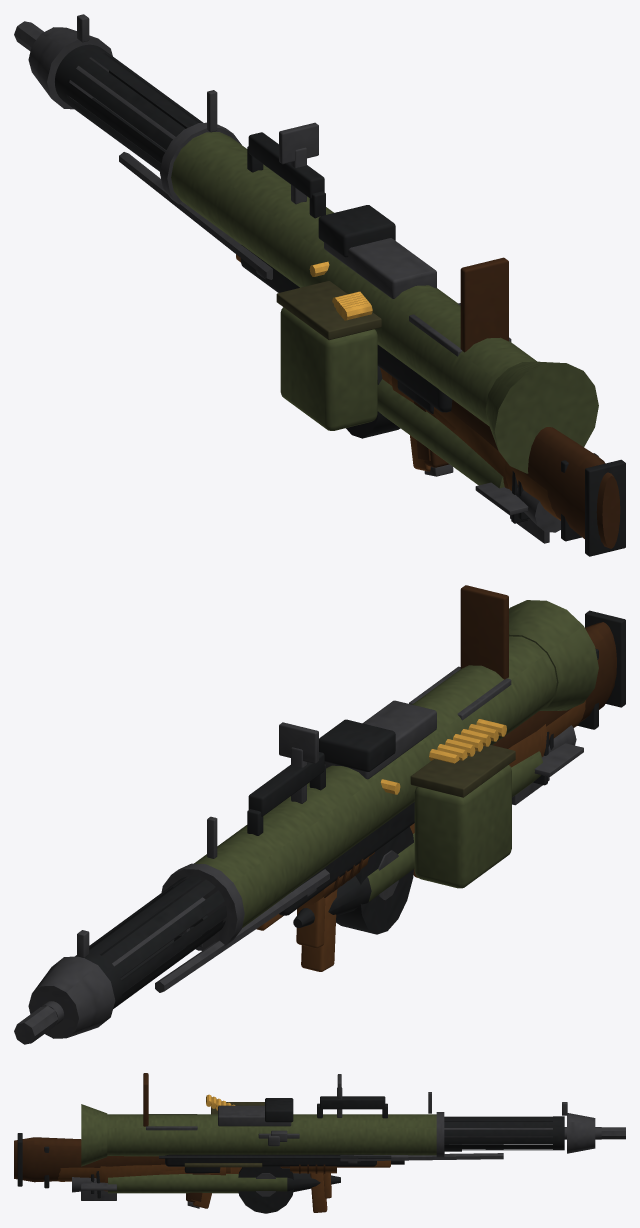
Rendered from wapens.glb.
The picture shows the model from 3 angles, top to bottom: view 1: azimuth 30°, elevation 25°; view 2: azimuth 150°, elevation 25°; view 3: azimuth 270°, elevation 25°; orthographic projection. The views are drawn at different scales.
Visible parts, largest first — view 1: Bazooka_Olijf, MG42_Parkerized, MG42_Staal, MG42_Olijf, MG42_HoutDonker, Raket_Olijf, Bazooka_Staal, Bazooka_HoutDonker, MG42_Riem, Raket_Staal, Trench_Hout, Thompson_Parkerized (+2 smaller); view 2: Bazooka_Olijf, MG42_Parkerized, MG42_Staal, MG42_Olijf, Bazooka_Staal, Bazooka_HoutDonker, Thompson_Parkerized, MG42_Riem, MG42_HoutDonker, Thompson_Hout, Raket_Olijf, MG42_Messing (+4 smaller); view 3: Bazooka_Olijf, MG42_Parkerized, MG42_Staal, MG42_HoutDonker, Raket_Olijf, Thompson_Parkerized, Thompson_Hout, Bazooka_Parkerized, Bazooka_Staal, Trench_Hout, Raket_Staal, Raket_Parkerized (+6 smaller).
Boxes of the visible parts, x1,y1,x2,y2 form: Bazooka_Olijf: (171, 132, 598, 473); MG42_Parkerized: (55, 44, 625, 556); MG42_Staal: (14, 14, 436, 298); MG42_Olijf: (280, 307, 377, 430); MG42_HoutDonker: (424, 399, 620, 548); Raket_Olijf: (377, 379, 504, 488); Bazooka_Staal: (160, 90, 511, 356); Bazooka_HoutDonker: (460, 257, 508, 352); MG42_Riem: (276, 281, 381, 340); Raket_Staal: (475, 482, 560, 543); Trench_Hout: (380, 367, 508, 488); Thompson_Parkerized: (346, 366, 598, 541); Bazooka_Olijf: (194, 600, 598, 927); MG42_Parkerized: (75, 610, 625, 1008); MG42_Staal: (14, 700, 436, 1044); MG42_Olijf: (414, 765, 511, 888); Bazooka_Staal: (161, 666, 511, 950); Bazooka_HoutDonker: (460, 585, 508, 679); Thompson_Parkerized: (336, 648, 598, 934); MG42_Riem: (410, 744, 515, 797); MG42_HoutDonker: (492, 622, 616, 748); Thompson_Hout: (301, 700, 585, 971); Raket_Olijf: (367, 751, 542, 901); MG42_Messing: (380, 719, 506, 794); Bazooka_Olijf: (81, 1104, 436, 1166); MG42_Parkerized: (17, 1096, 564, 1186); MG42_Staal: (218, 1102, 625, 1163); MG42_HoutDonker: (14, 1137, 195, 1202); Raket_Olijf: (108, 1174, 287, 1193); Thompson_Parkerized: (44, 1146, 293, 1213); Thompson_Hout: (57, 1166, 327, 1212); Bazooka_Parkerized: (159, 1155, 391, 1173); Bazooka_Staal: (146, 1074, 444, 1157); Trench_Hout: (104, 1164, 241, 1191); Raket_Staal: (72, 1177, 116, 1200); Raket_Parkerized: (287, 1173, 340, 1191).
Size of the model in its own units: 0.196 by 0.3259 by 1.36.
Materials: 9 (9 with a texture image).
